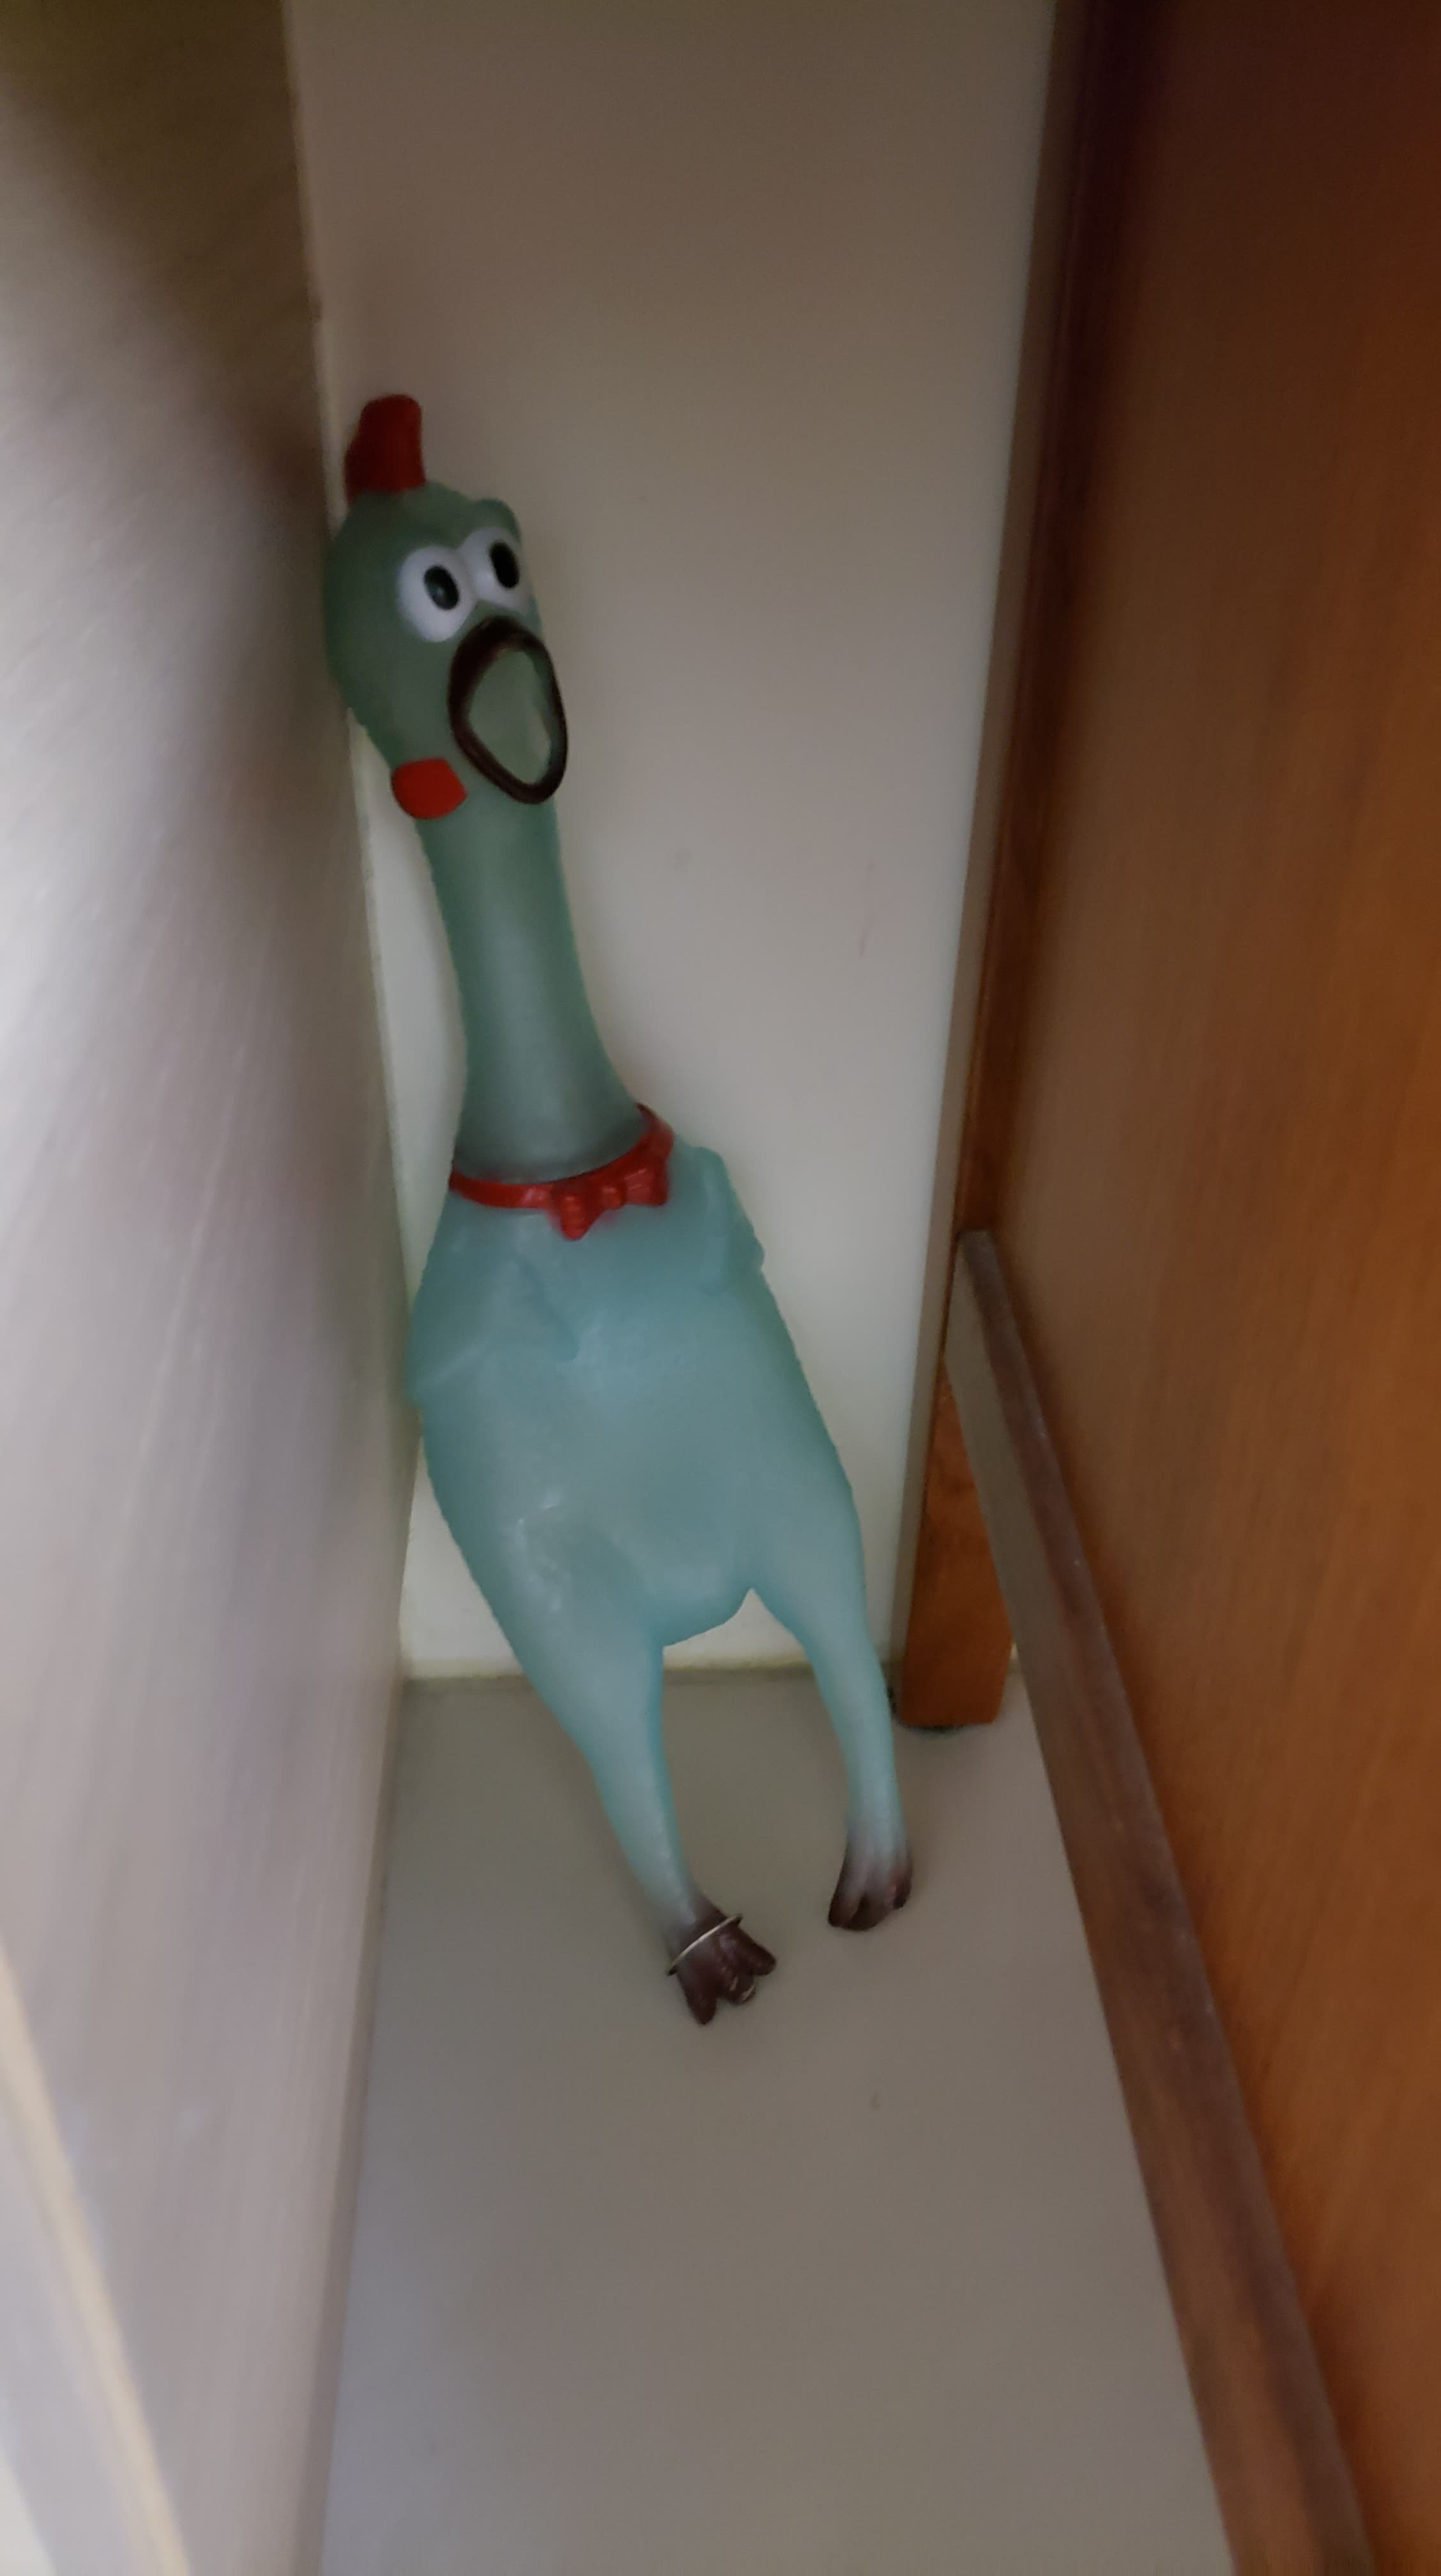Screaming chicken: (295, 363, 960, 2029)
